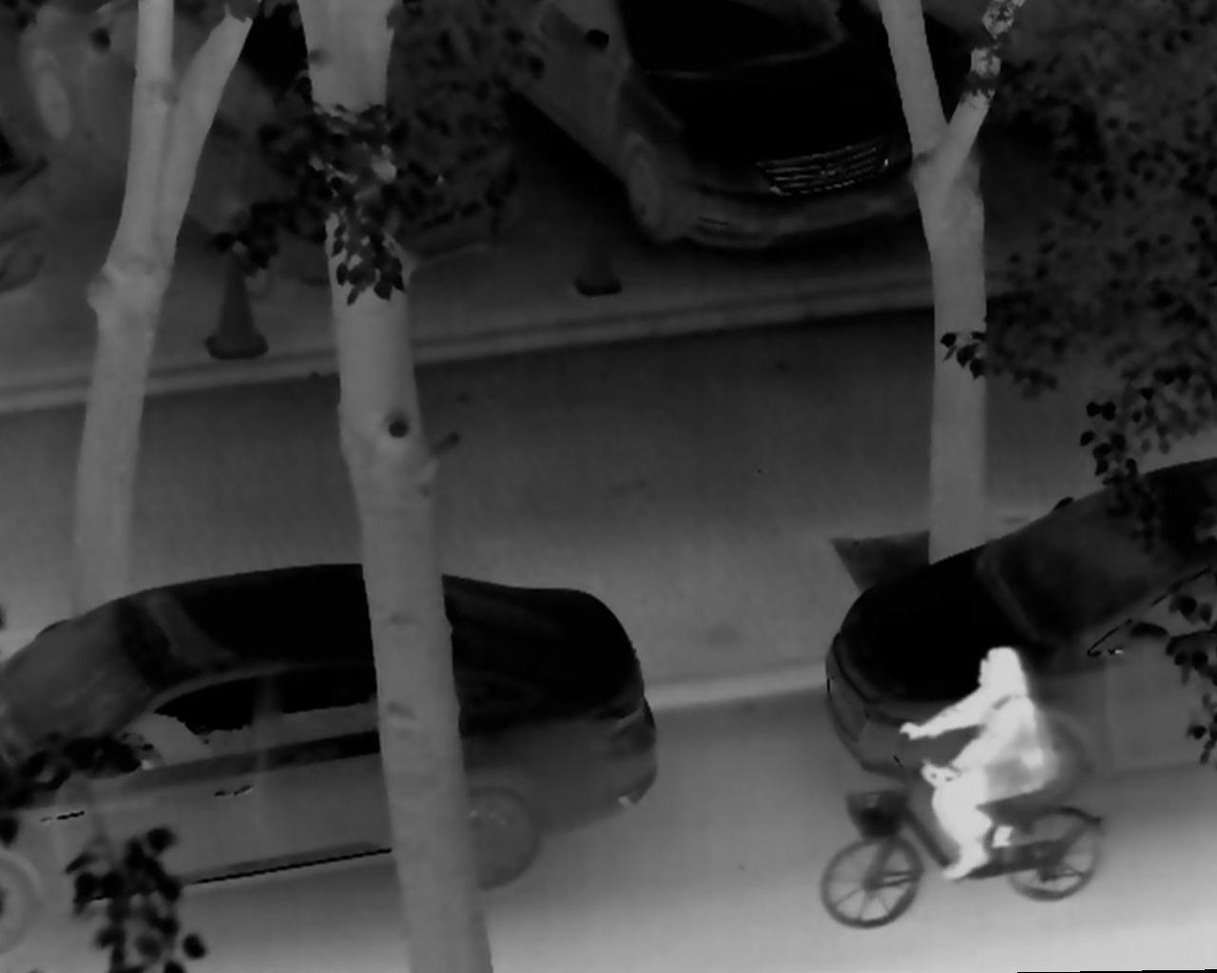person: (894, 640, 1049, 893)
